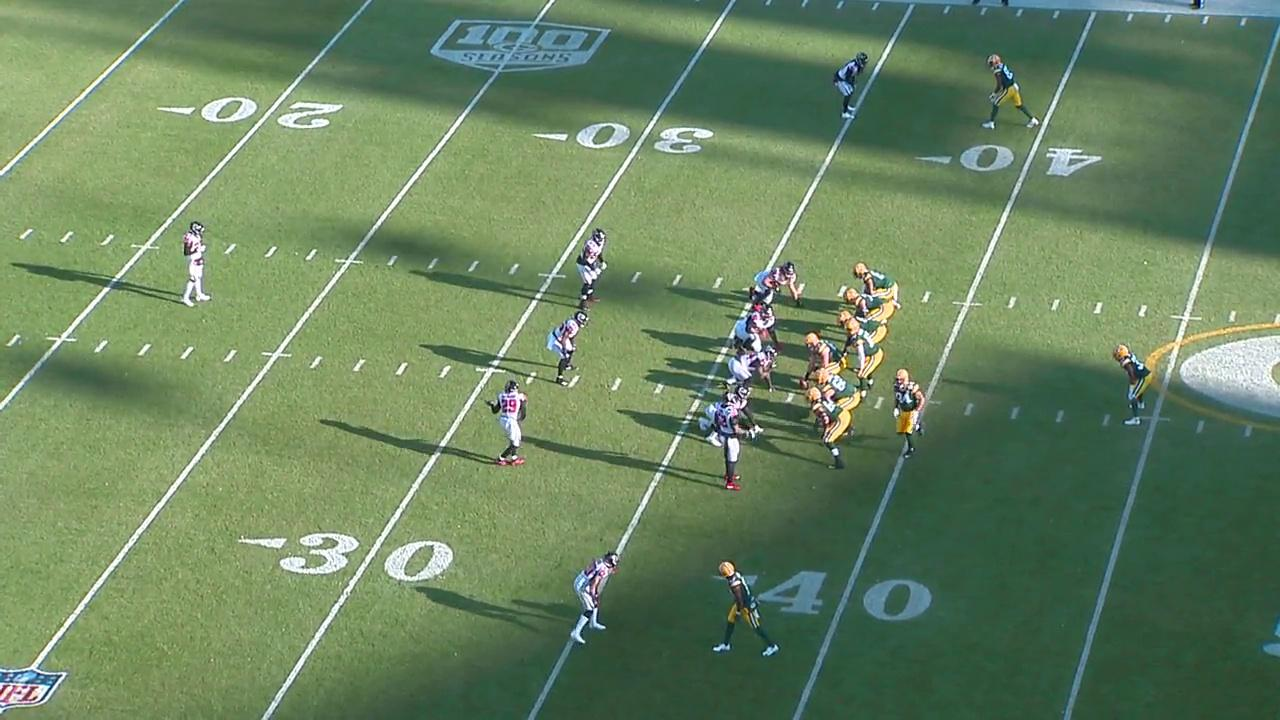defense: (570, 546, 623, 646), (486, 377, 532, 475), (699, 384, 762, 445), (545, 310, 591, 391), (571, 224, 612, 313), (718, 391, 749, 494), (722, 344, 782, 395), (750, 257, 806, 310), (179, 217, 210, 310), (831, 52, 870, 122), (731, 305, 784, 355)
oline: (806, 386, 856, 471), (814, 366, 862, 440), (800, 332, 847, 389), (843, 286, 896, 327), (835, 309, 888, 349)
qb: (844, 319, 884, 401)
skill: (711, 558, 781, 660), (981, 52, 1040, 133), (890, 368, 930, 463), (1112, 343, 1155, 427), (850, 259, 902, 318)
